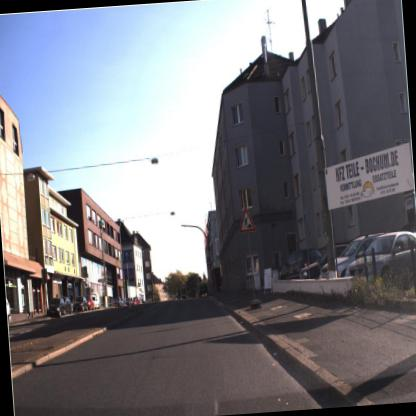danger: (236, 205, 257, 235)
mandatory: (121, 246, 134, 264)
